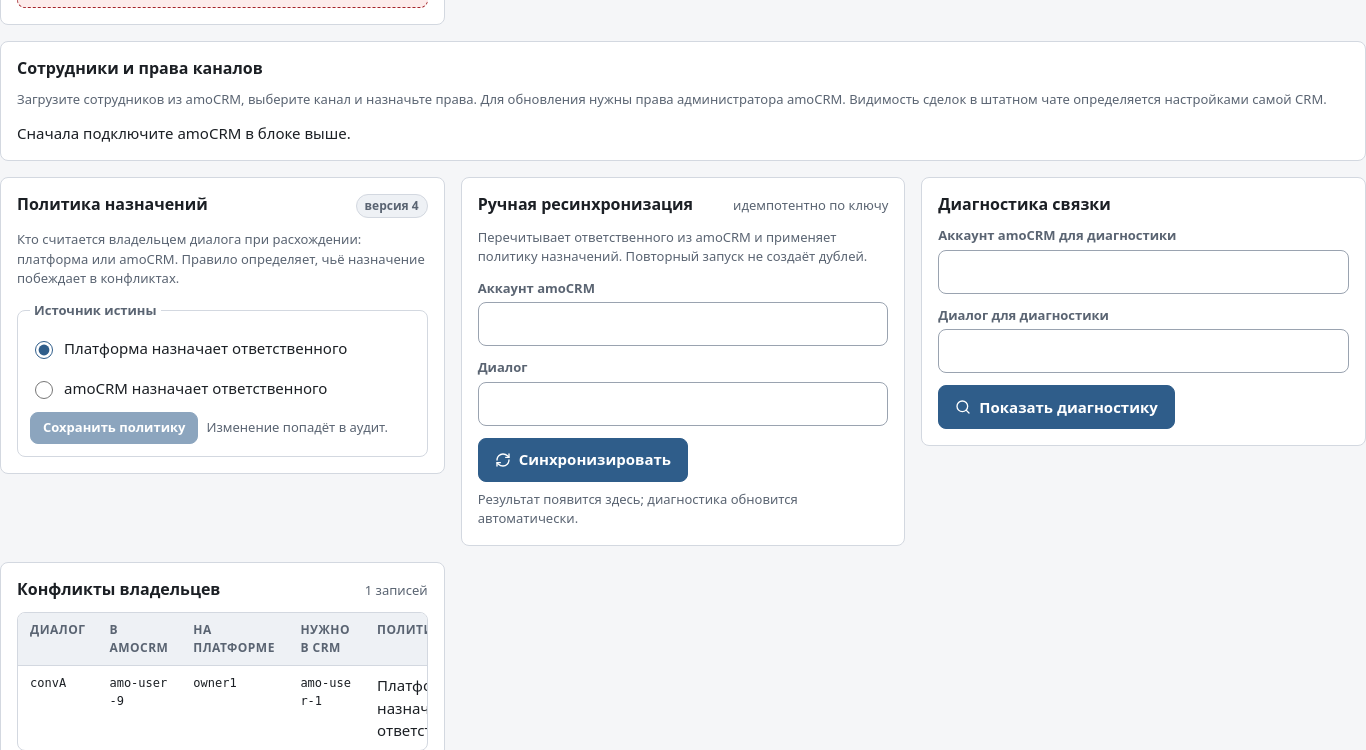
it: страница CRM › показывает отказ по роли при смене политики
(page scrolled)
Click the radio button labelled "amoCRM назначает ответственного" at (44, 390), box [35,380,53,398]
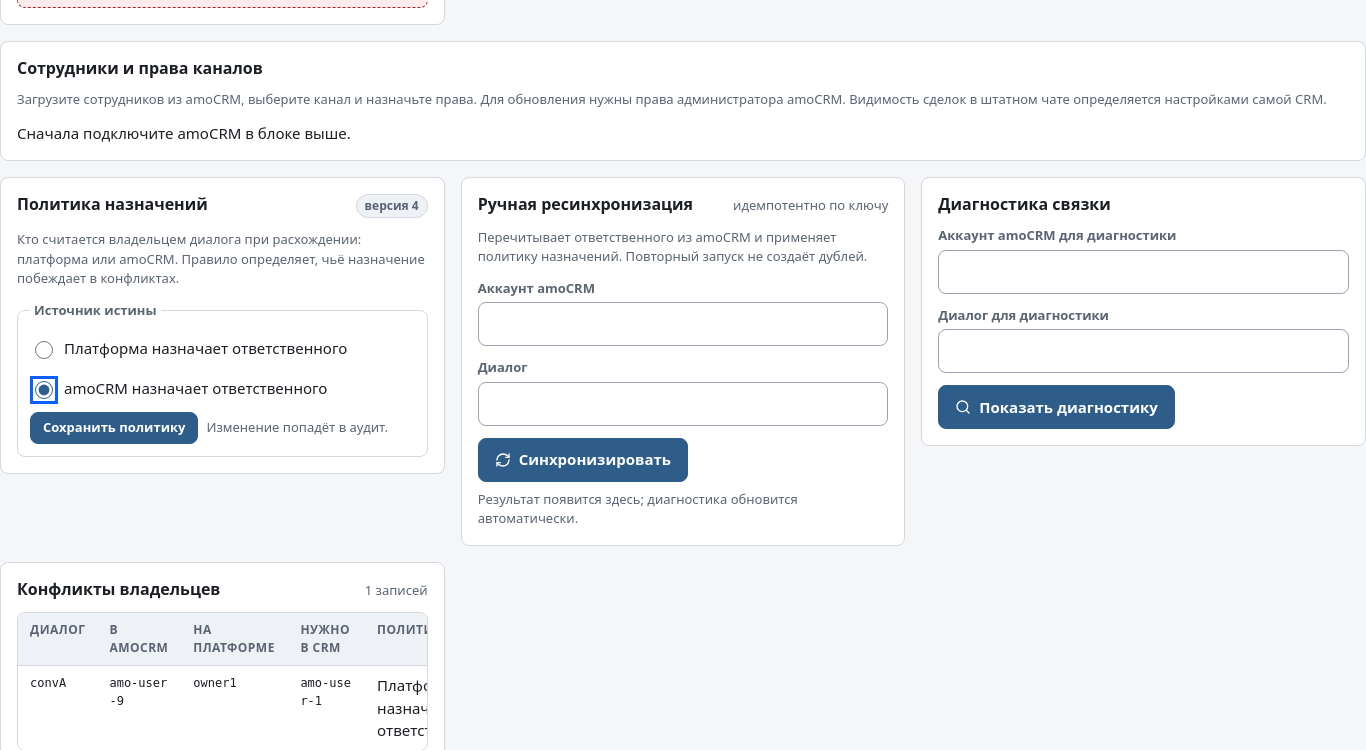
Click the button "Сохранить политику" at (114, 428), box [30,412,198,444]
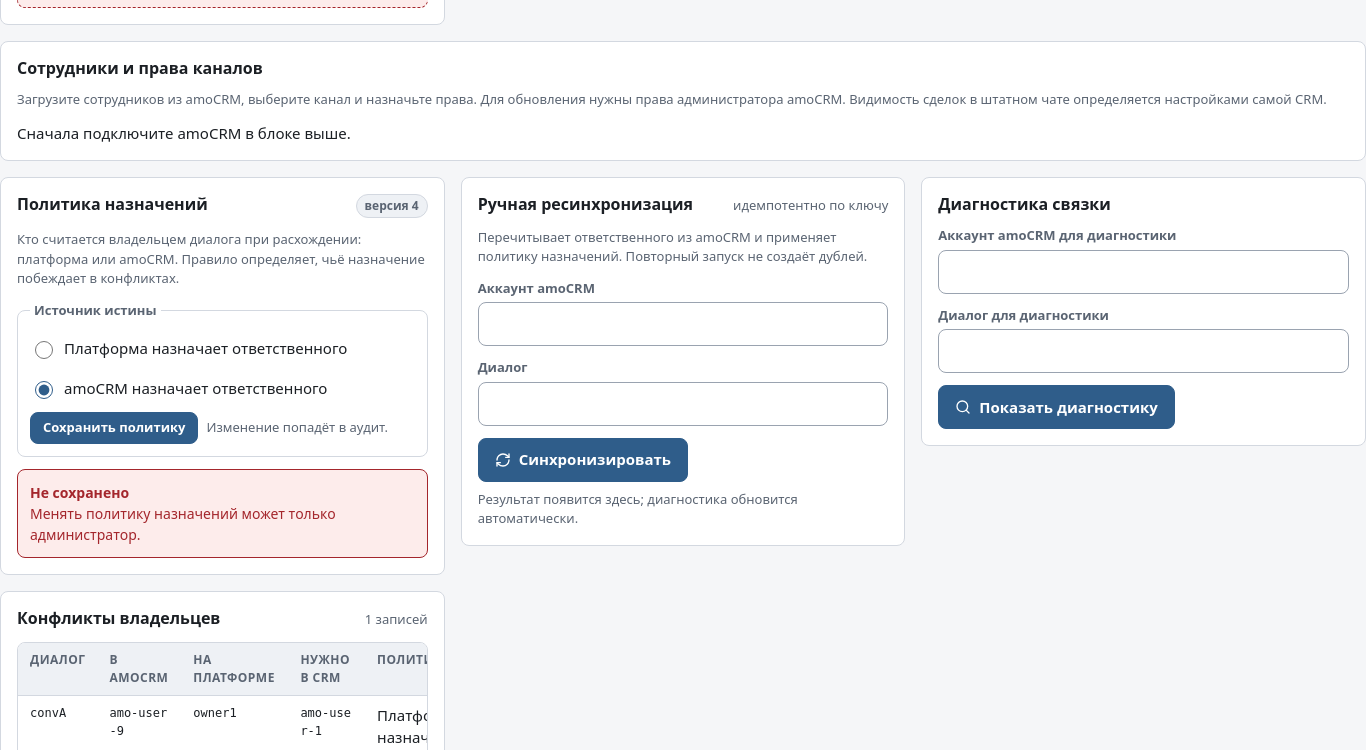
Expected: the text "Менять политику назначений может только администратор." is shown, [30,504,336,544]
